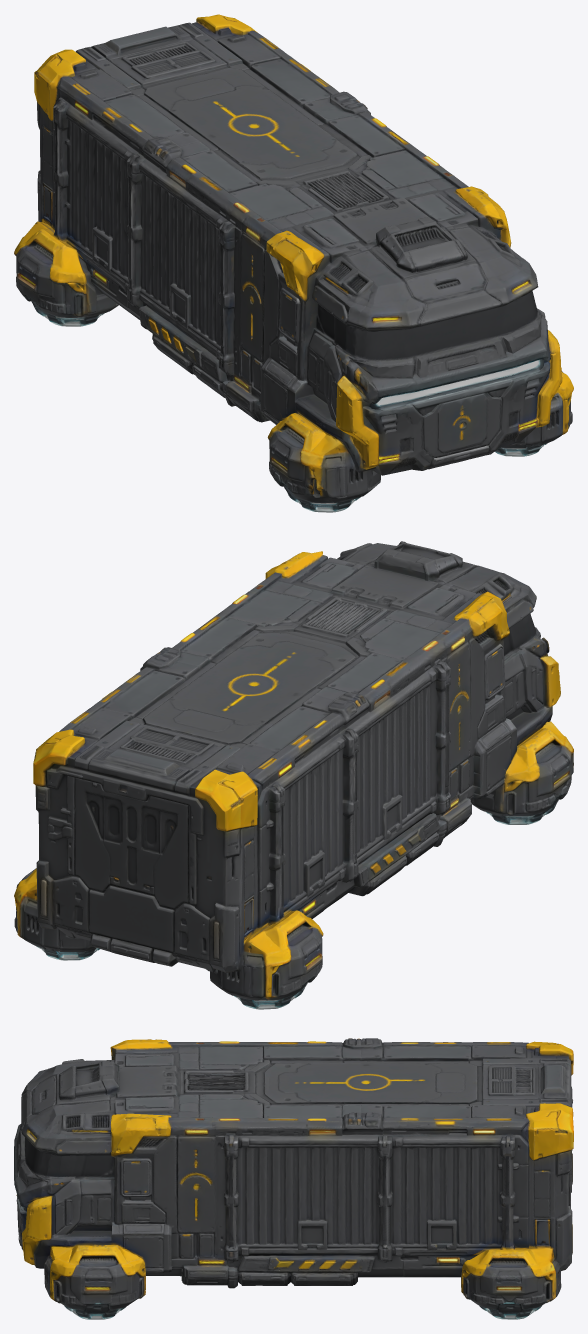
Rendered from car-b.glb.
3 renders of one model, top to bottom at view 1: azimuth 30°, elevation 25°; view 2: azimuth 150°, elevation 25°; view 3: azimuth 270°, elevation 25°, orthographic. The views are drawn at different scales.
Parts seen in each view (by area): view 1: tripo_node_9820cc45-aae4-49f7-9c68-55cc428b64d7; view 2: tripo_node_9820cc45-aae4-49f7-9c68-55cc428b64d7; view 3: tripo_node_9820cc45-aae4-49f7-9c68-55cc428b64d7.
Boxes of the visible parts, box(x1,y1,x2,y2) form: tripo_node_9820cc45-aae4-49f7-9c68-55cc428b64d7: box(14, 14, 573, 512); tripo_node_9820cc45-aae4-49f7-9c68-55cc428b64d7: box(14, 541, 573, 1009); tripo_node_9820cc45-aae4-49f7-9c68-55cc428b64d7: box(14, 1038, 573, 1319).
Size of the model in its own units: 0.4901 by 0.3943 by 0.9804.
1 material, 1 textured.
